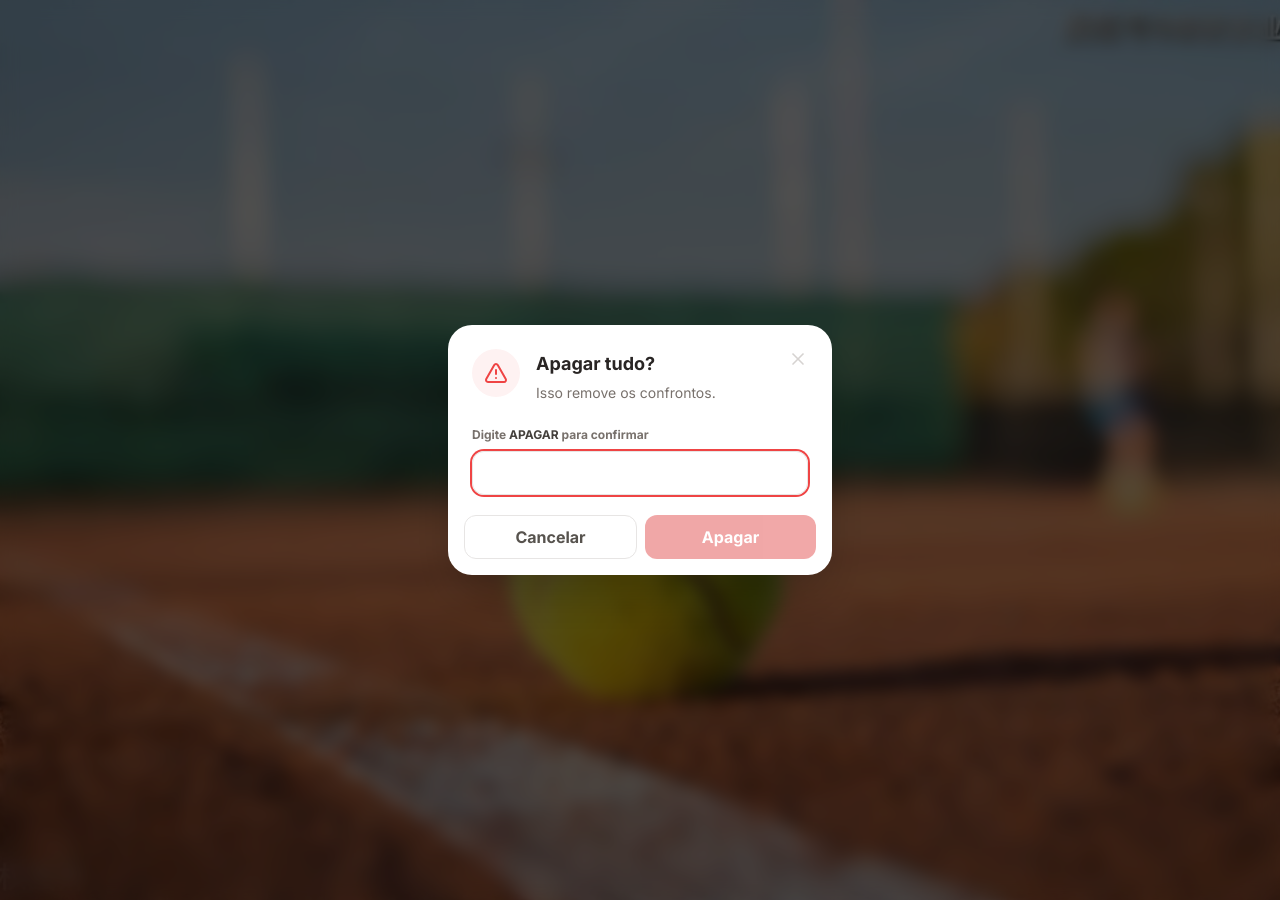
it: ConfirmDialog › com confirmação tipada › ignora caixa e espaços nas pontas — a barreira é atenção, não datilografia
The image size is (1280, 900).
In the field labelled "Digite APAGAR para confirmar": (640, 473) [472,451,808,495], type "  apagar "
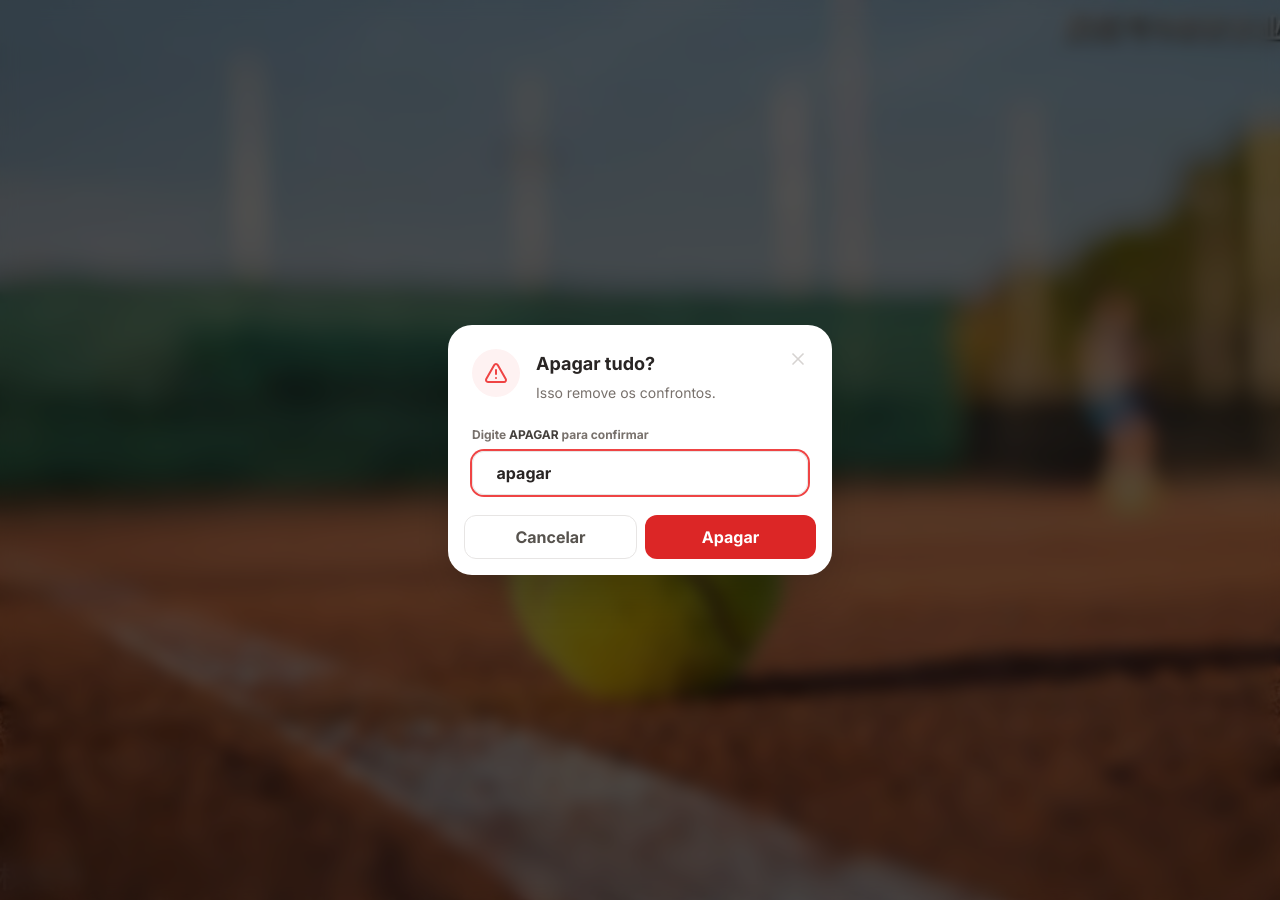
Result: the button "Apagar" is enabled at [645,515,816,559]
